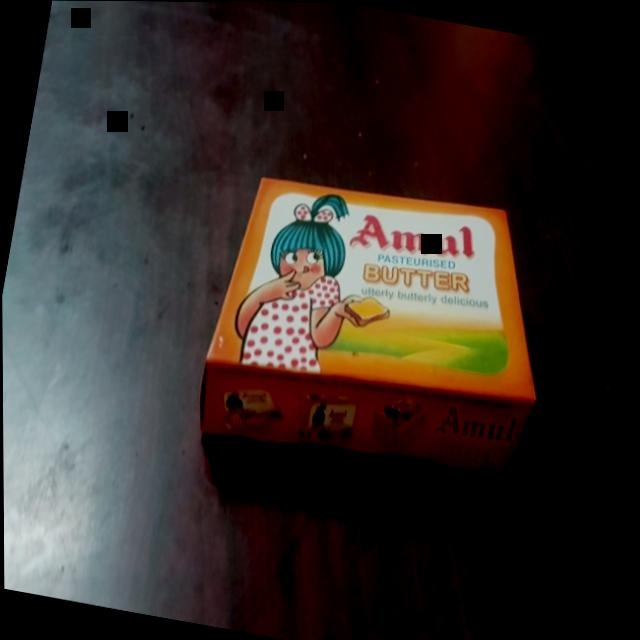butter: (190, 156, 571, 488)
